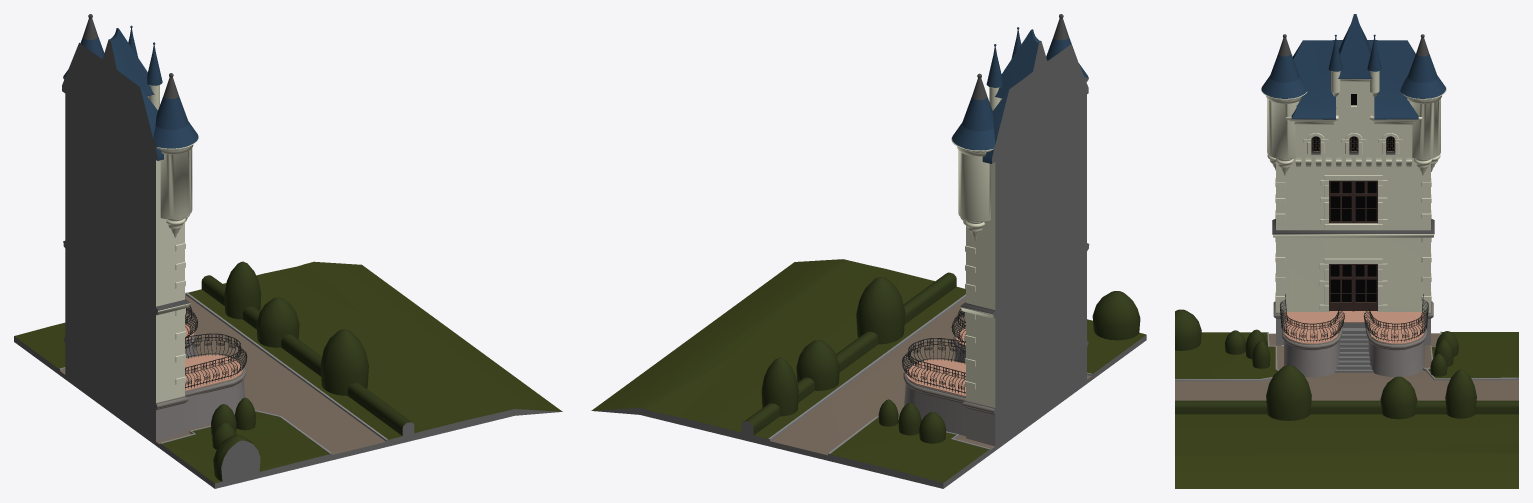
3 renders of one model, left to right at view 1: azimuth 30°, elevation 25°; view 2: azimuth 150°, elevation 25°; view 3: azimuth 270°, elevation 25°, orthographic. The views are drawn at different scales.
Parts seen in each view (by area): view 1: Plane.003; view 2: Plane.003; view 3: Plane.003.
Boxes of the visible parts, left/top/right/bottom form: Plane.003: left=14, top=14, right=562, bottom=488; Plane.003: left=591, top=14, right=1146, bottom=488; Plane.003: left=1175, top=14, right=1518, bottom=488.
Bounding box in the file's own units: 4 × 4.28 × 4.
